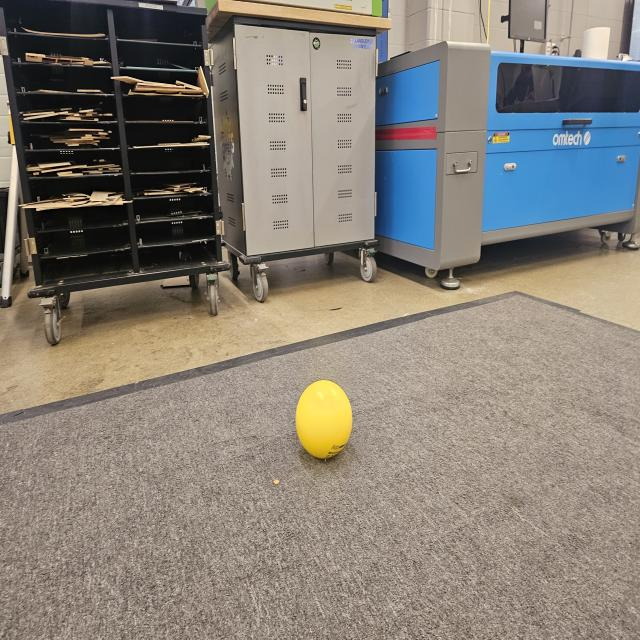Fuel: (297, 379, 351, 459)
